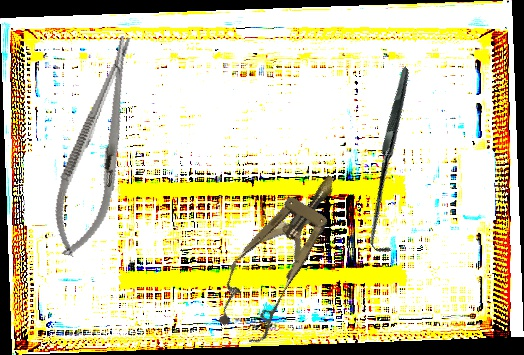Hook Surgical: (297, 66, 490, 258)
Needle Holder: (41, 29, 155, 264)
Speculum: (201, 157, 362, 350)
